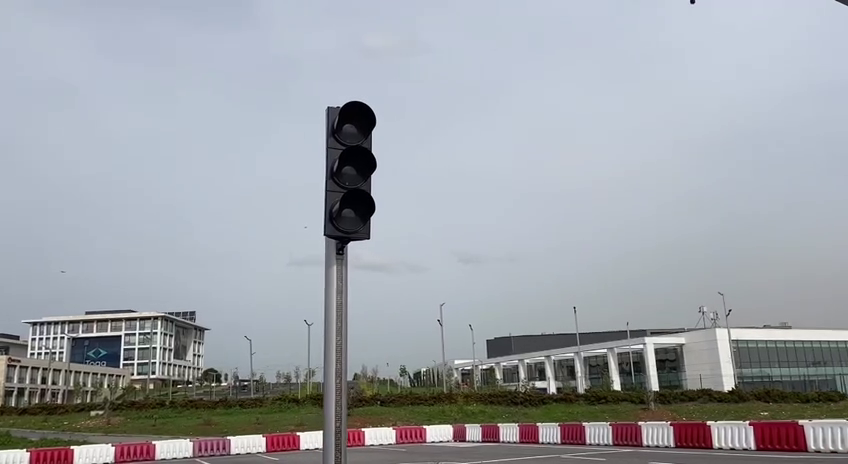trafficLight: (315, 92, 382, 247)
